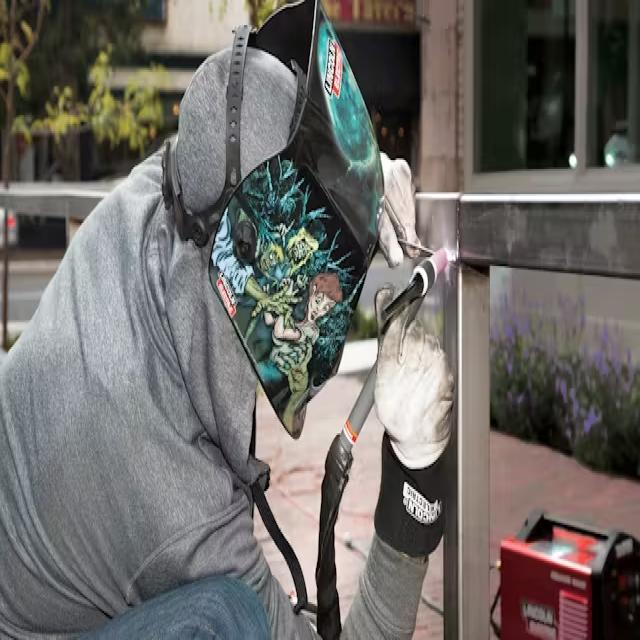with_helmet: (170, 0, 392, 444)
